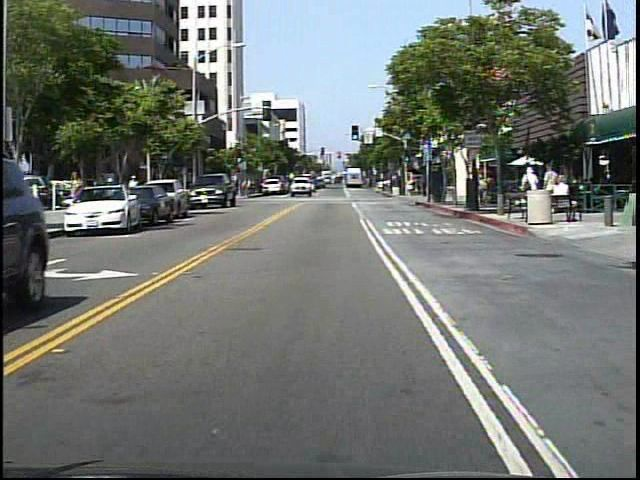person: (68, 167, 87, 218), (242, 176, 255, 201)
